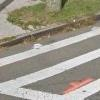Crosswalk: (7, 41, 99, 100)
